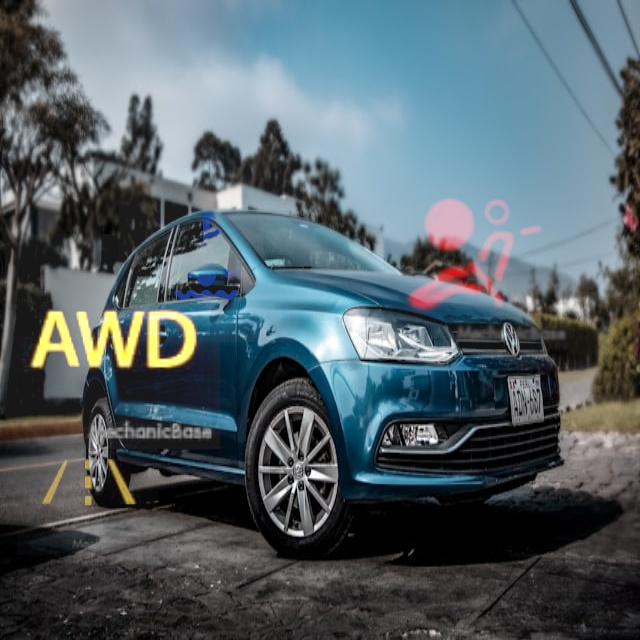symbol: (5, 234, 220, 449), (383, 159, 573, 349), (119, 159, 302, 342), (17, 414, 158, 555)
